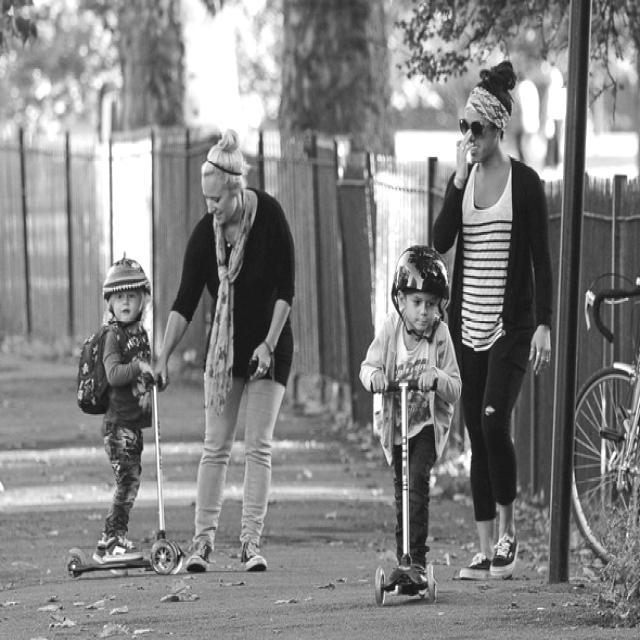Helmet: (384, 239, 448, 339), (98, 244, 154, 326)
